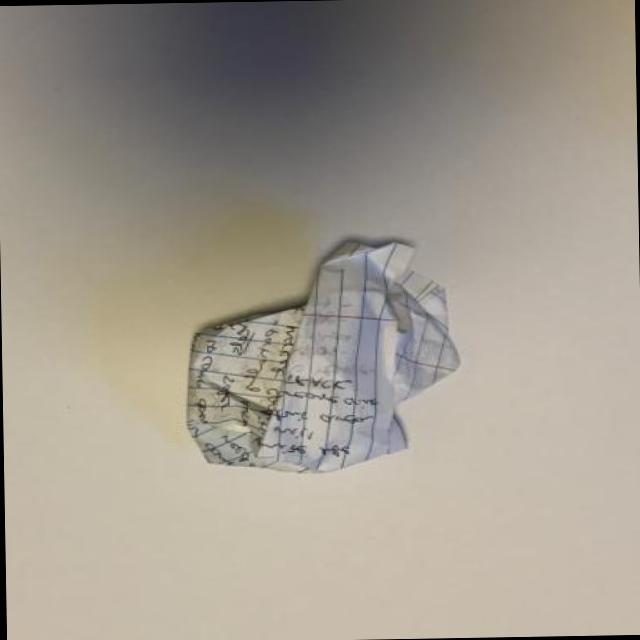paper: (167, 286, 406, 460)
